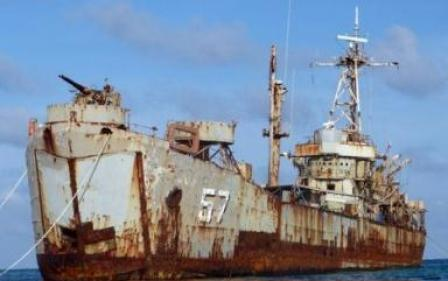rust: (240, 233, 339, 269), (134, 152, 155, 257), (357, 237, 424, 264), (167, 191, 183, 256), (67, 164, 81, 228)
